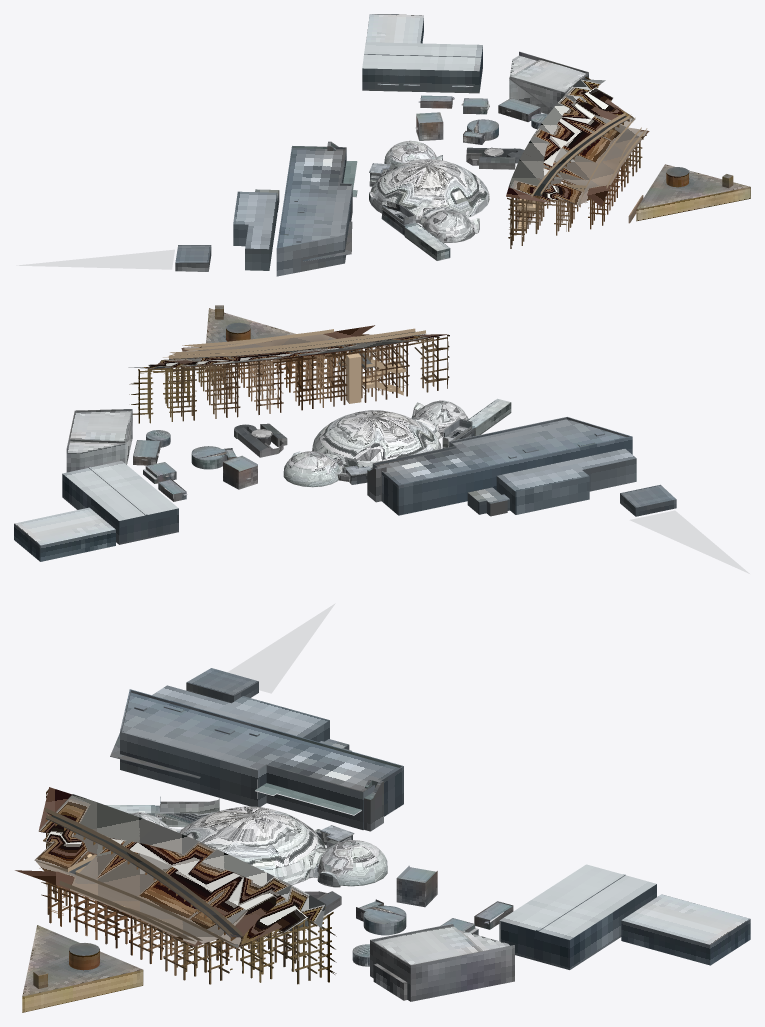
3 renders of one model, top to bottom at view 1: azimuth 30°, elevation 25°; view 2: azimuth 150°, elevation 25°; view 3: azimuth 270°, elevation 25°, orthographic. The views are drawn at different scales.
Parts seen in each view (by area): view 1: Buildings_建物パビリオン, GrandRoofRing_大屋根リング; view 2: Buildings_建物パビリオン, GrandRoofRing_大屋根リング; view 3: Buildings_建物パビリオン, GrandRoofRing_大屋根リング.
Boxes of the visible parts, left/top/right/bottom form: Buildings_建物パビリオン: left=16, top=14, right=750, bottom=276; GrandRoofRing_大屋根リング: left=506, top=77, right=649, bottom=248; Buildings_建物パビリオン: left=14, top=305, right=749, bottom=573; GrandRoofRing_大屋根リング: left=128, top=325, right=449, bottom=423; Buildings_建物パビリオン: left=22, top=603, right=750, bottom=1012; GrandRoofRing_大屋根リング: left=15, top=787, right=336, bottom=984.
Size of the model in its own units: 251 by 20.88 by 191.
21 materials, 19 textured.
